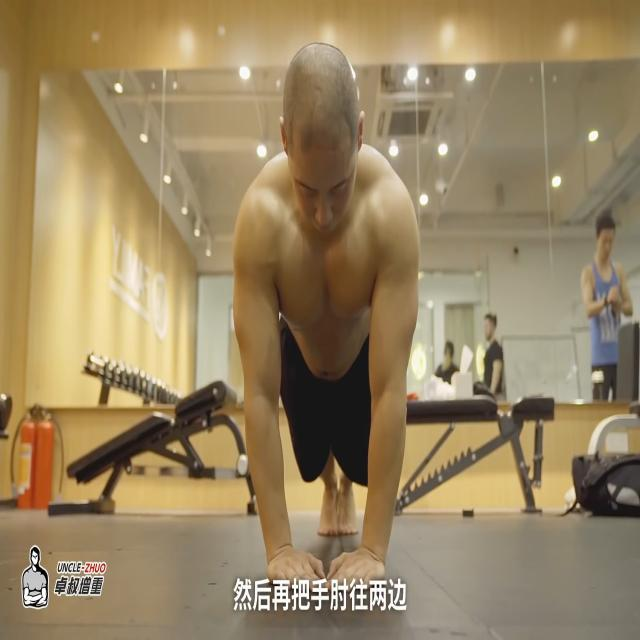9_cabeza_baja: (278, 41, 366, 235)
